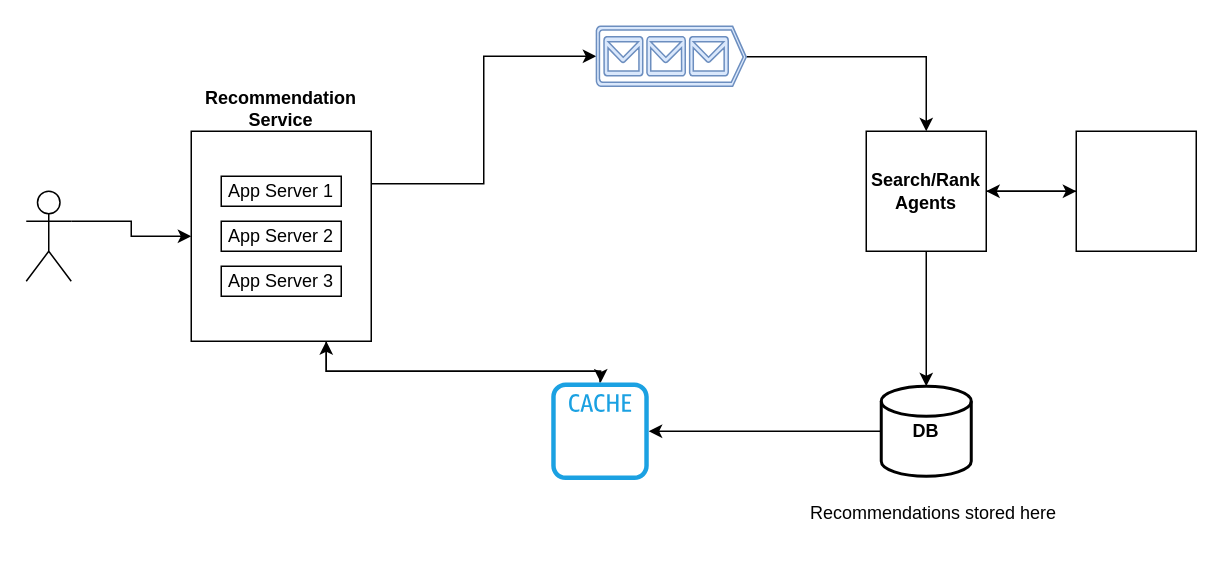
Image size: 1223x563. Some labels were removed from this diagram. Here are the shapes that lost their labels. From the top down, the centre of each, then its label:
[670,55]: Async Distributed Queue
[1135,190]: Shards Mapper
[48,235]: Actor
